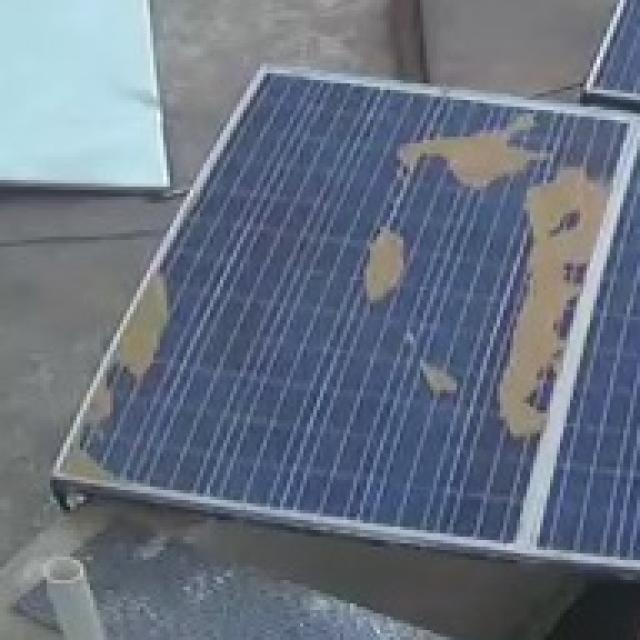Dusty: (390, 116, 558, 187), (499, 305, 551, 433), (526, 192, 580, 305), (354, 224, 410, 303), (394, 335, 462, 397), (140, 279, 167, 384), (66, 443, 110, 473), (586, 193, 604, 256), (558, 163, 595, 189), (116, 330, 137, 373), (91, 389, 112, 430)
